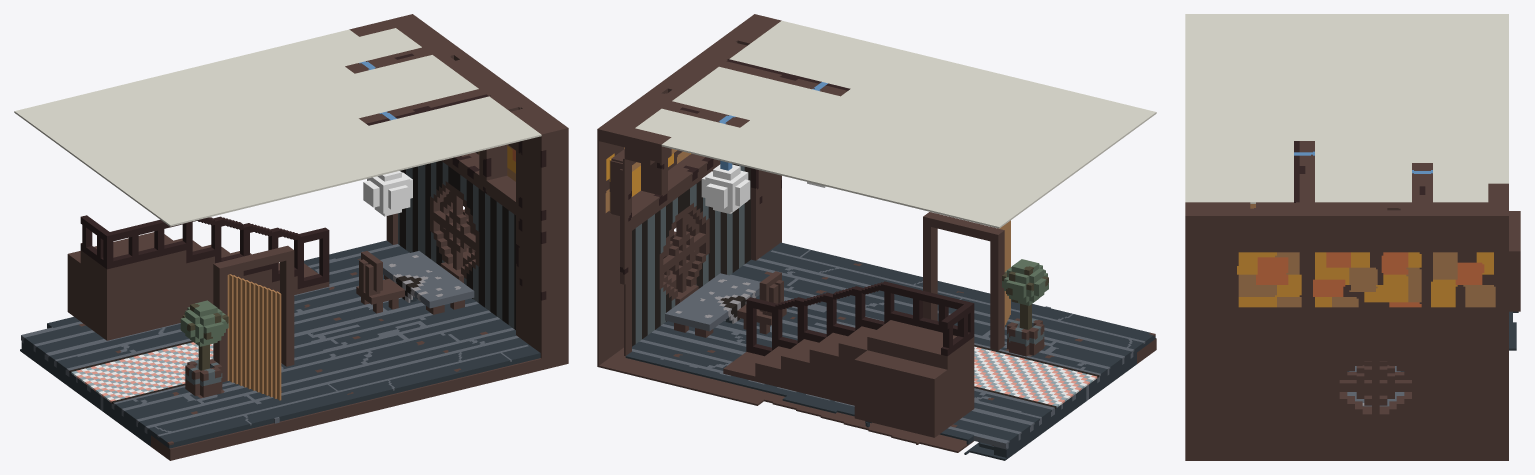
The model's file is Player House-4-living room.obj.
3 views of the same model, side by side, from view 1: azimuth 30°, elevation 25°; view 2: azimuth 150°, elevation 25°; view 3: azimuth 270°, elevation 25° (orthographic). The views are drawn at different scales.
Visible parts, largest first — view 1: living room; view 2: living room; view 3: living room.
Boxes of the visible parts, x1=… form: living room: x1=14, y1=14, x2=568, y2=460; living room: x1=597, y1=14, x2=1156, y2=460; living room: x1=1185, y1=14, x2=1520, y2=460.
Size of the model in its own units: 25.1 by 14.2 by 17.6.
Materials: 1 (1 with a texture image).
